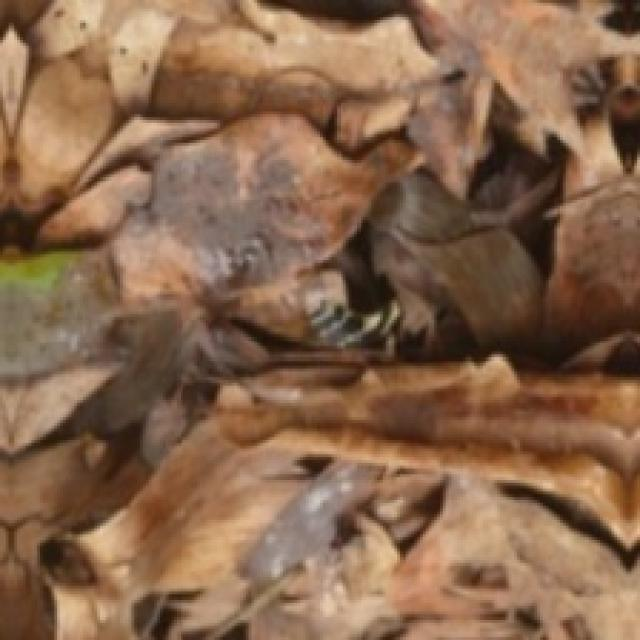king cobra: (0, 0, 637, 637), (306, 300, 397, 357)
